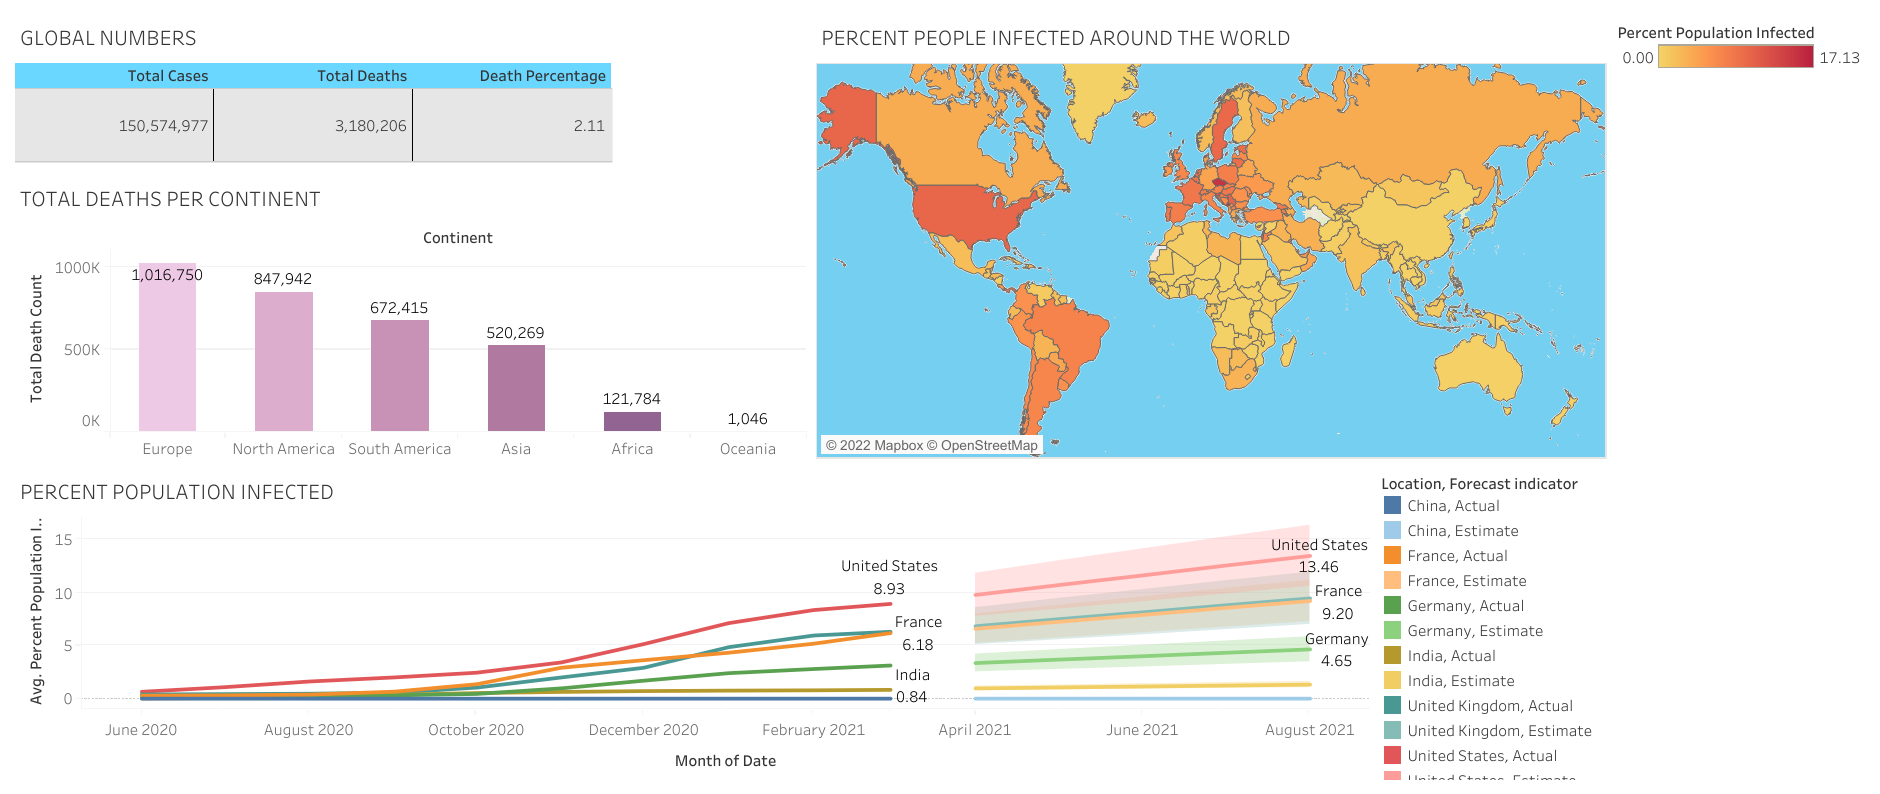

This screenshot's page, from the dashboard's own definition file:
{"tool":"tableau","page":{"name":"Dashboard 1","canvas":[1000,1000],"units":"permille","ordinal":0},"visuals":[{"type":"worksheet","title":"Sheet 1","mark":"Automatic","box":[4.8,9.3,432.6,205]},{"type":"worksheet","title":"Sheet 3","mark":"Automatic","box":[437.4,9.3,432.8,574.9]},{"type":"legend","title":"Sheet 3","param":"[federated.135jv930hpeyyw1ep1hay08gie2u].[sum:PercentPopulationInfected:qk]","box":[870.2,9.3,124.9,84.8]},{"type":"worksheet","title":"Sheet 2","mark":"Automatic","rows":["TotalDeathCount"],"cols":["location"],"box":[4.8,214.2,432.6,369.9]},{"type":"worksheet","title":"Sheet 4","mark":"Automatic","rows":["PercentPopulationInfected"],"cols":["date"],"box":[4.8,584.1,737,406.6]},{"type":"legend","title":"Sheet 4","param":"[federated.1ouvam81cf4c1w16q3fsm0gf3ze0].[none:Location:nk]\n[federated.1ouvam81c","box":[741.8,584.1,128.4,406.6]}]}

Visuals, with their boxes on the dashboard's canvas, which has no fixed pixel size, in thousandths of its width and height (x1, y1, x2, y2). These are canvas units, not pixel positions in the 1880x794 screenshot, which may show the page scaled, cropped or inside an application window:
"Sheet 1" worksheet: x1=5 y1=9 x2=437 y2=214
"Sheet 3" worksheet: x1=437 y1=9 x2=870 y2=584
"Sheet 3" legend: x1=870 y1=9 x2=995 y2=94
"Sheet 2" worksheet: x1=5 y1=214 x2=437 y2=584
"Sheet 4" worksheet: x1=5 y1=584 x2=742 y2=991
"Sheet 4" legend: x1=742 y1=584 x2=870 y2=991
